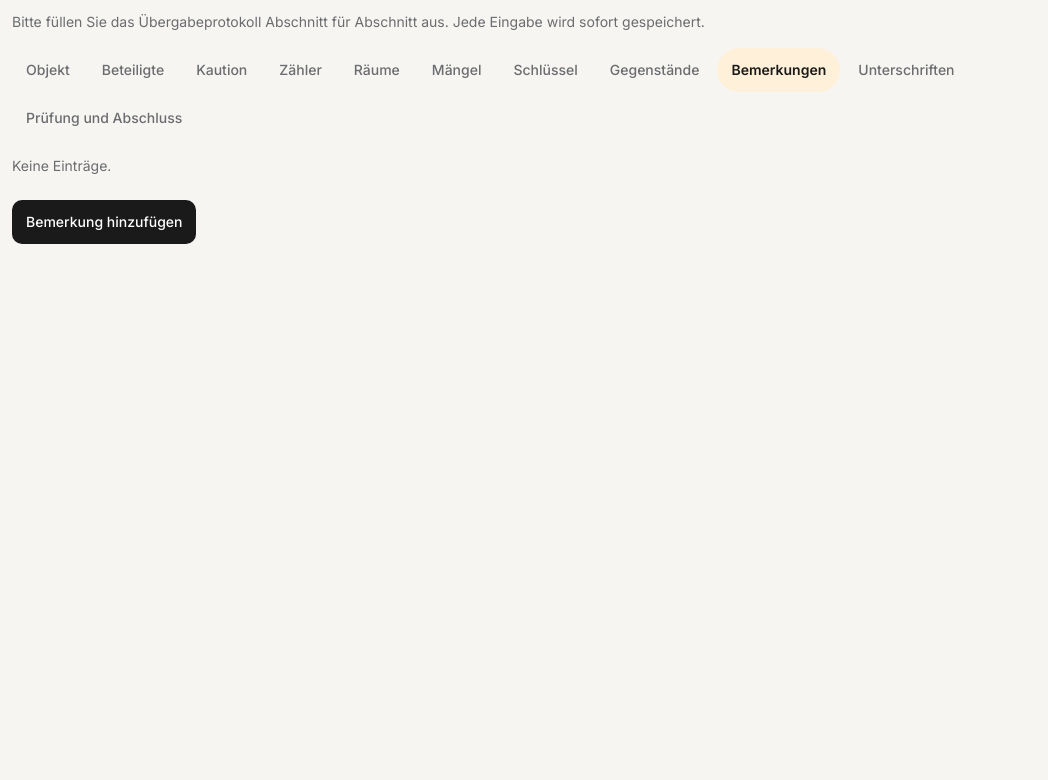
Test: HandoverFill › offers no internal fields and no internal flag on remarks
The image size is (1048, 780).
Step 1. Click the button "Bemerkung hinzufügen" → click(104, 222), box [12,200,196,244]
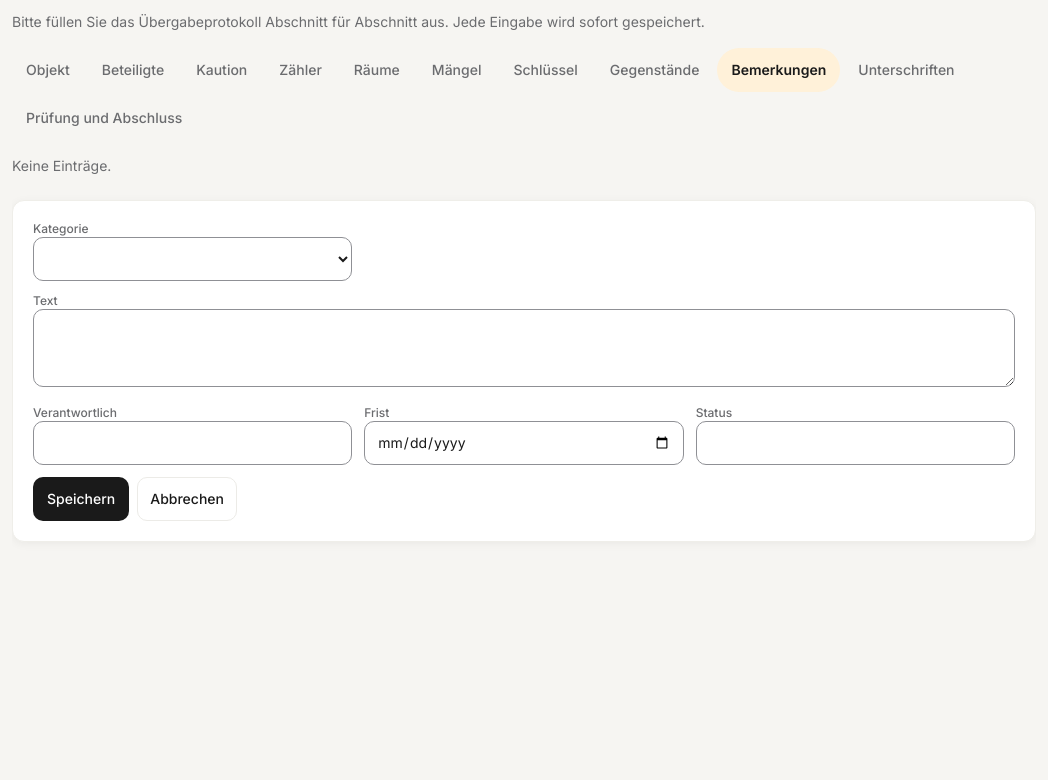
Step 2. Click the button "Objekt" → click(48, 70), box [12,48,84,92]
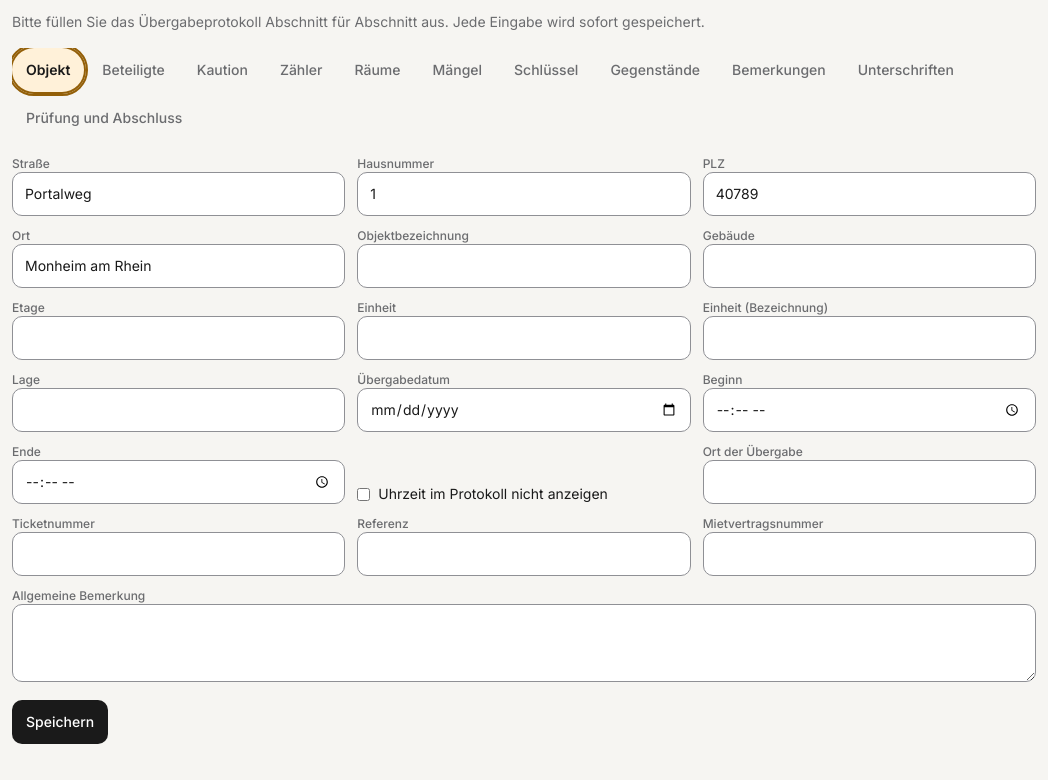
Expected: the field labelled "Straße" holds "Portalweg", [12,172,345,216]
